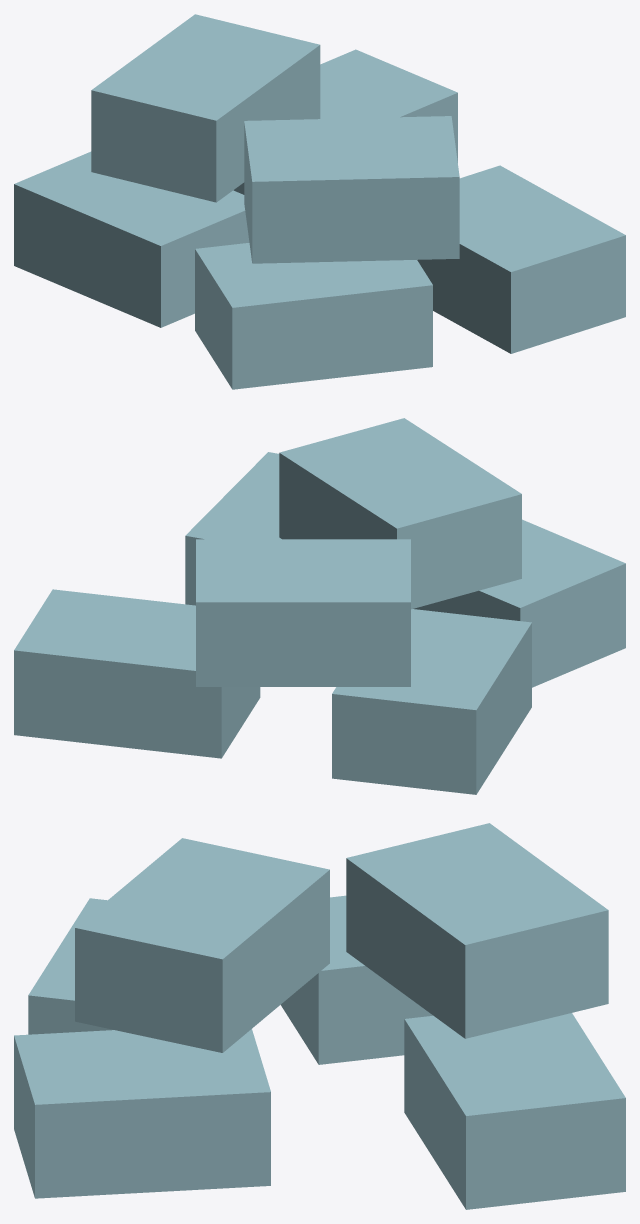
Rendered from debris.fbx.
The picture shows the model from 3 angles, top to bottom: view 1: azimuth 30°, elevation 25°; view 2: azimuth 150°, elevation 25°; view 3: azimuth 270°, elevation 25°; orthographic projection. The views are drawn at different scales.
Visible parts, largest first — view 1: debris; view 2: debris; view 3: debris.
Part boxes in pixels (bbox=[...]): debris: bbox=[14, 14, 625, 389]; debris: bbox=[14, 418, 625, 794]; debris: bbox=[14, 823, 625, 1209].
Bounding box in the file's own units: 4.36 × 1.6 × 4.73.
